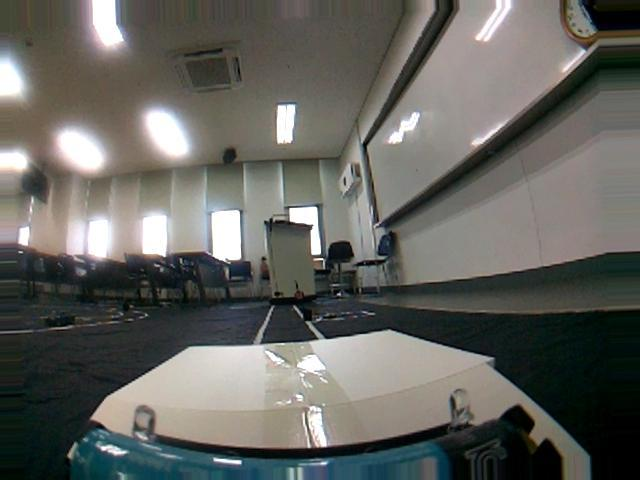hill_up: (0, 298, 640, 480)
